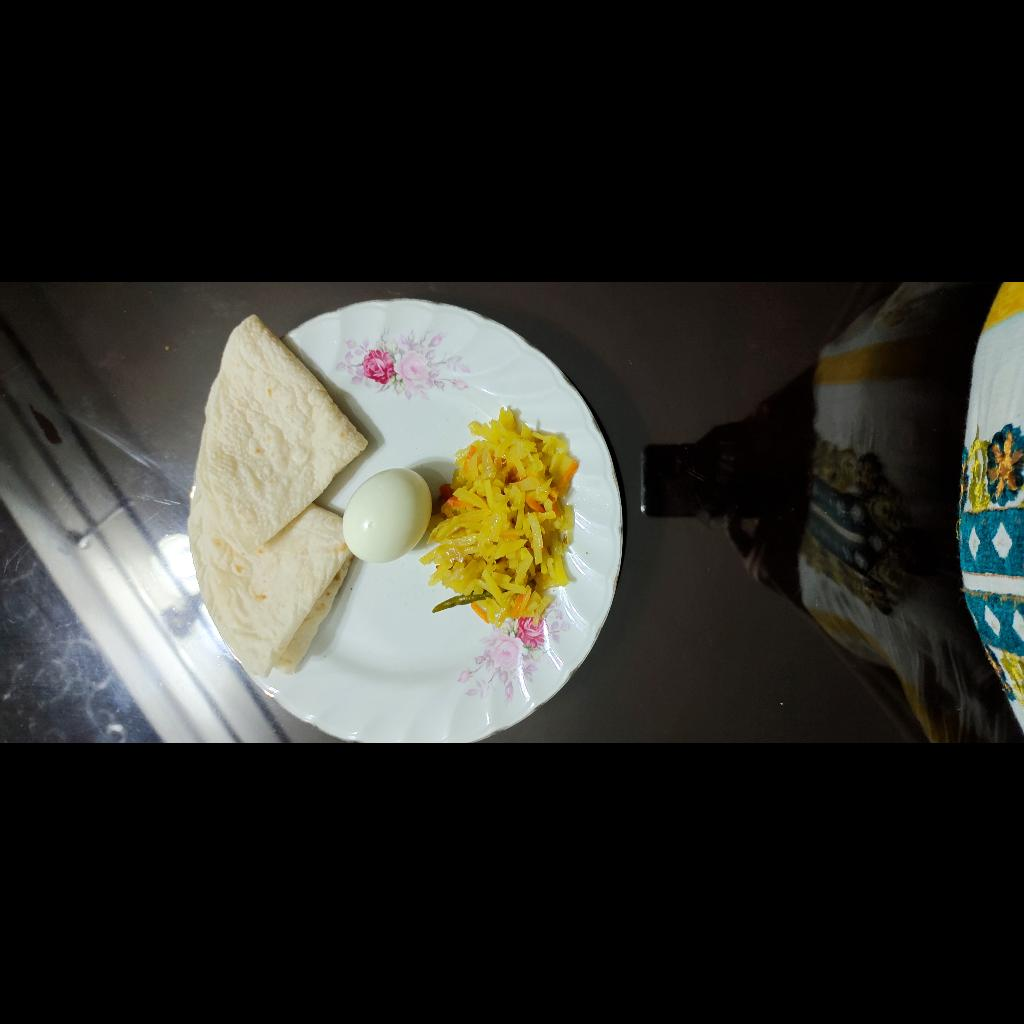egg-boiled: (181, 622, 282, 716)
kumra-vaji: (113, 702, 339, 857)
ruti: (64, 467, 436, 647)
